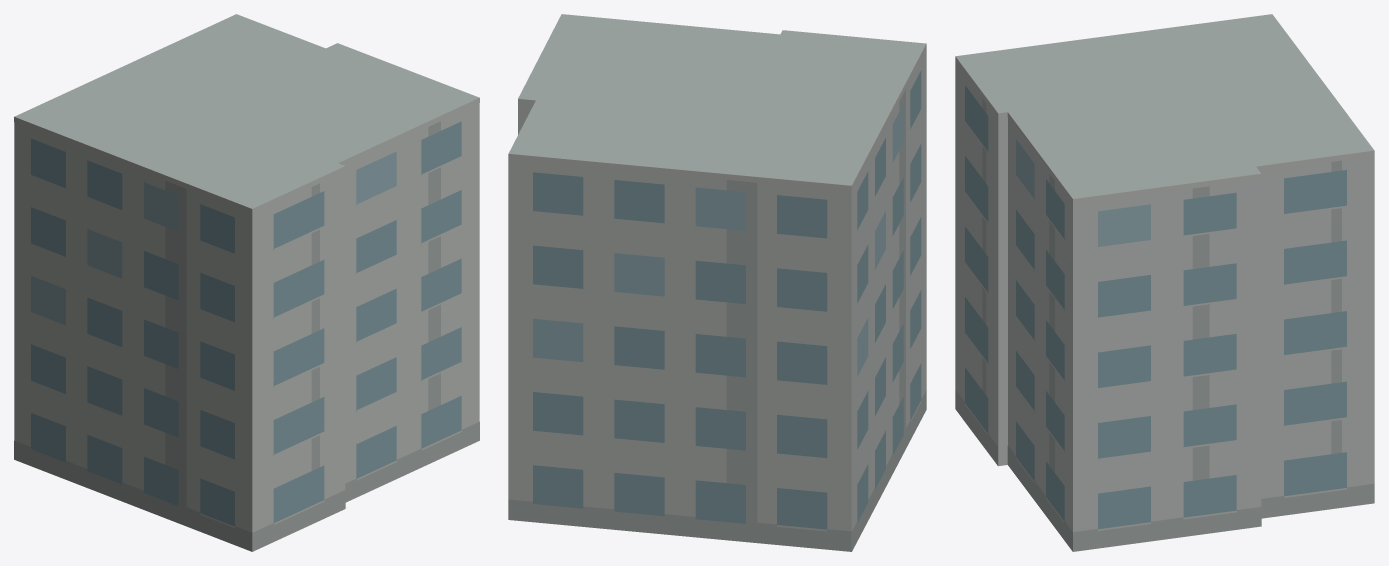
Rendered from survey-upis-32812449.glb.
3 views of the same model, side by side, from view 1: azimuth 30°, elevation 25°; view 2: azimuth 150°, elevation 25°; view 3: azimuth 270°, elevation 25° (orthographic). The views are drawn at different scales.
Parts seen in each view (by area): view 1: survey-upis-32812449.tmp; view 2: survey-upis-32812449.tmp; view 3: survey-upis-32812449.tmp.
Boxes of the visible parts, x1,y1,x2,y2 form: survey-upis-32812449.tmp: [14, 14, 479, 551]; survey-upis-32812449.tmp: [508, 14, 926, 551]; survey-upis-32812449.tmp: [955, 14, 1374, 551].
Bounding box in the file's own units: 17.34 × 15.4 × 16.6.
